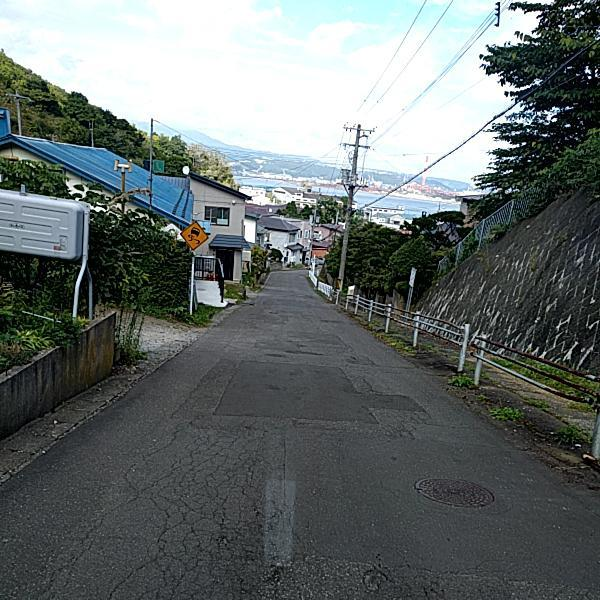D20: (52, 408, 312, 599)
D40: (355, 560, 393, 593)
D50: (414, 472, 500, 508)
